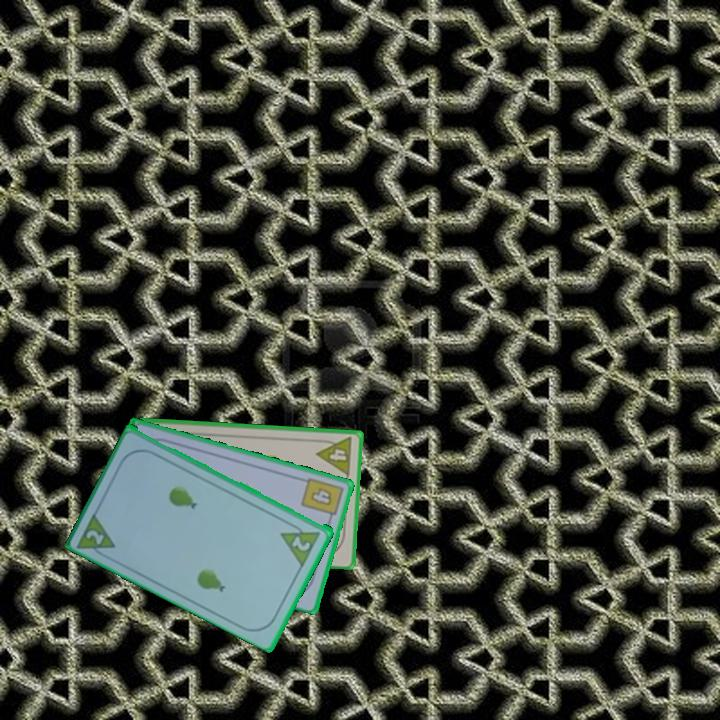2p: (74, 508, 119, 562), (289, 532, 314, 554)
4b: (297, 474, 346, 525)
4p: (313, 434, 355, 478)
